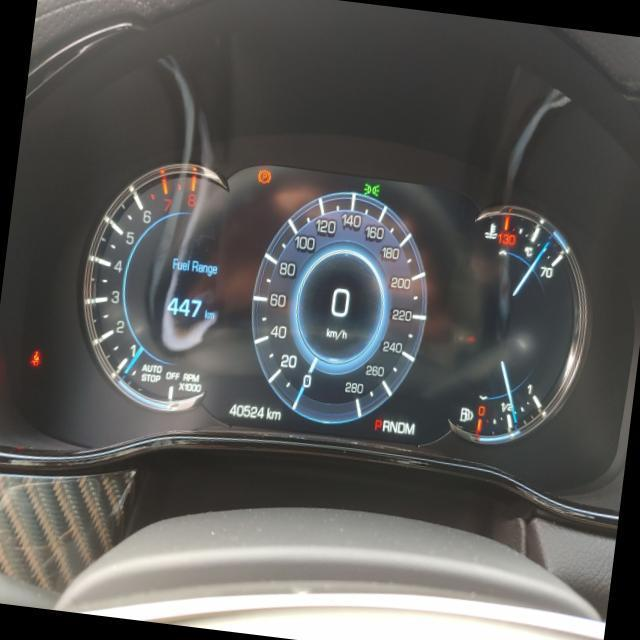SideLamp: (362, 181, 379, 196)
